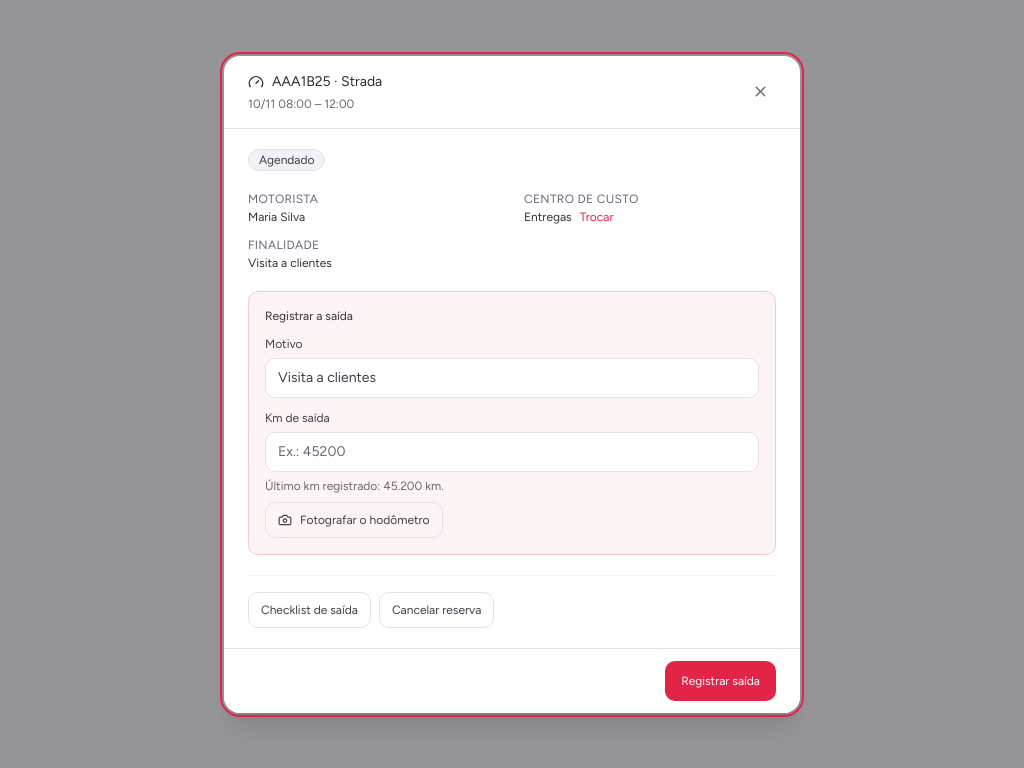
Test: UsoDetalheModal: sem conexão no registro › erro que não é de conexão (ex.: 422) não oferece "Tentar de novo"
This screenshot has width=1024, height=768.
Step 1. Type "45300" into the field labelled "Km de saída" → (512, 452), box top-left (265, 432), bottom-right (759, 472)
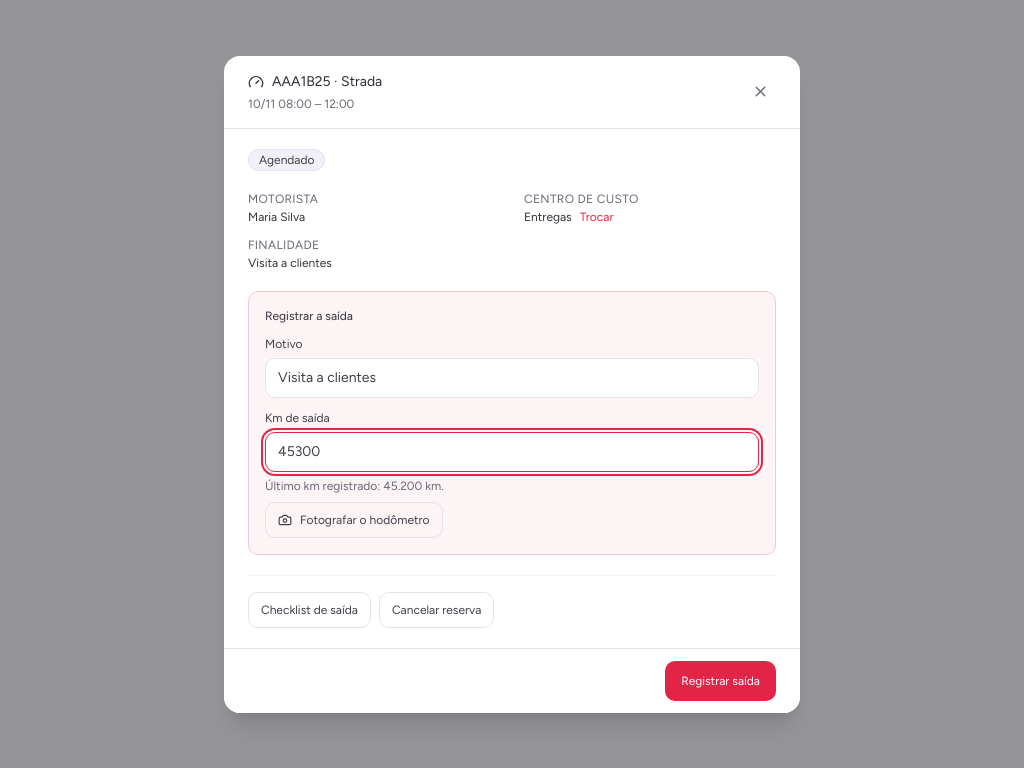
Step 2. Click the button "Registrar saída" → (721, 680), box top-left (665, 660), bottom-right (776, 700)
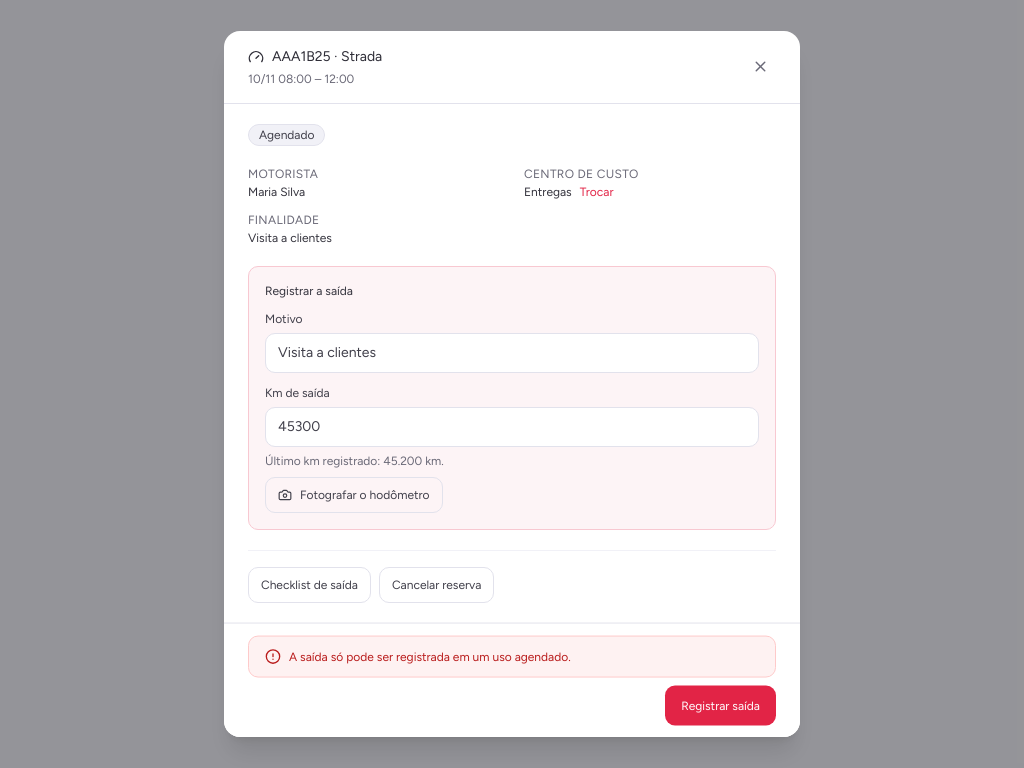
Now the text "A saída só pode ser registrada em um uso agendado." is shown, box top-left (289, 649), bottom-right (571, 663)
